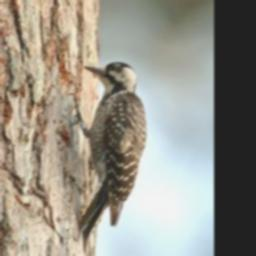Woodpecker: (67, 56, 148, 252)
